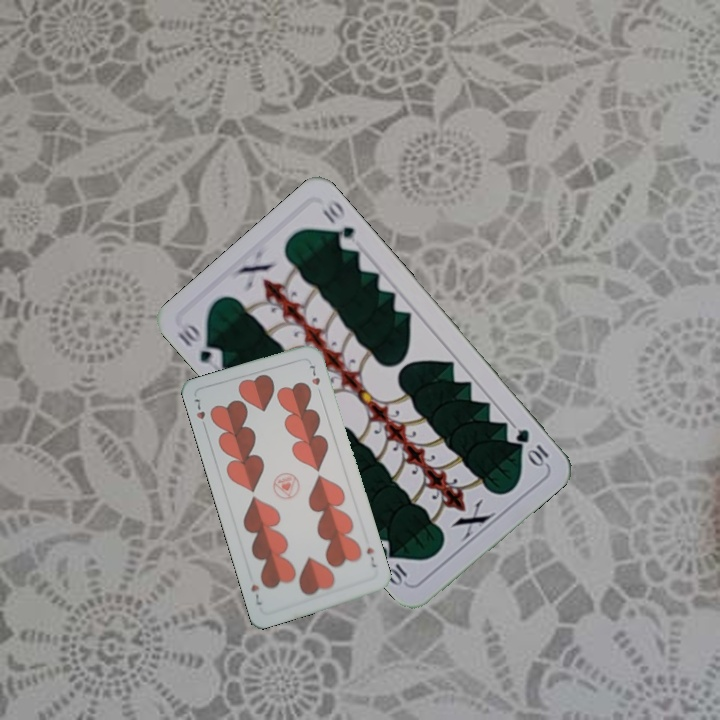G10: (173, 320, 226, 372), (511, 425, 552, 470)
H7: (189, 394, 209, 433), (362, 544, 379, 570)
